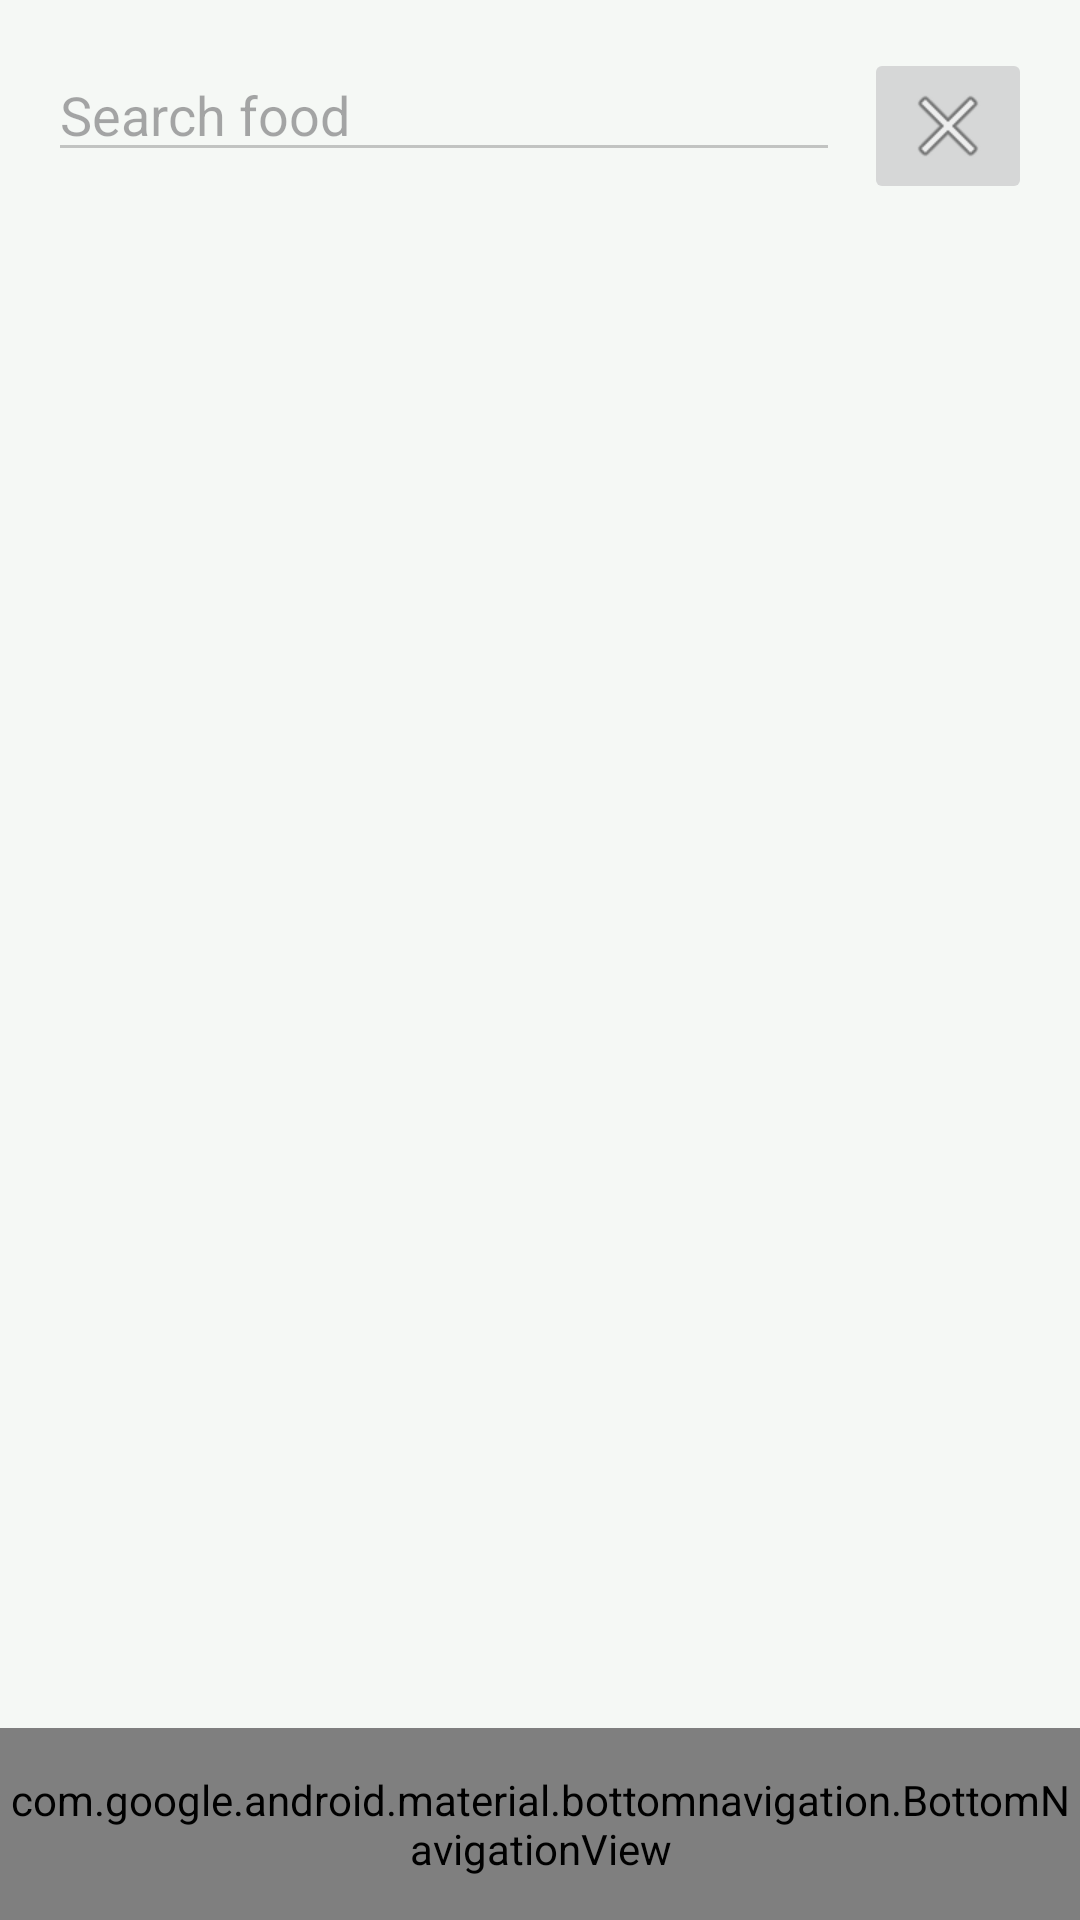

Icons on this 1080 × 1920 Android screen, each with the point to tap as [x,y]:
Clear: [948,126]
